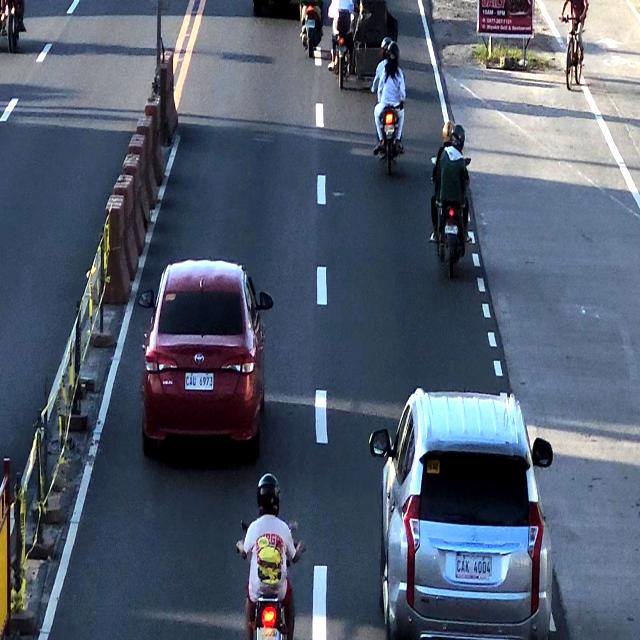Car: (378, 386, 552, 640), (139, 259, 266, 450)
License-Plate: (455, 549, 495, 580), (181, 370, 216, 392), (442, 222, 460, 235)
Motorcycle: (241, 479, 297, 640), (434, 119, 466, 283), (374, 43, 406, 165)
Tricycle: (331, 0, 370, 85)
